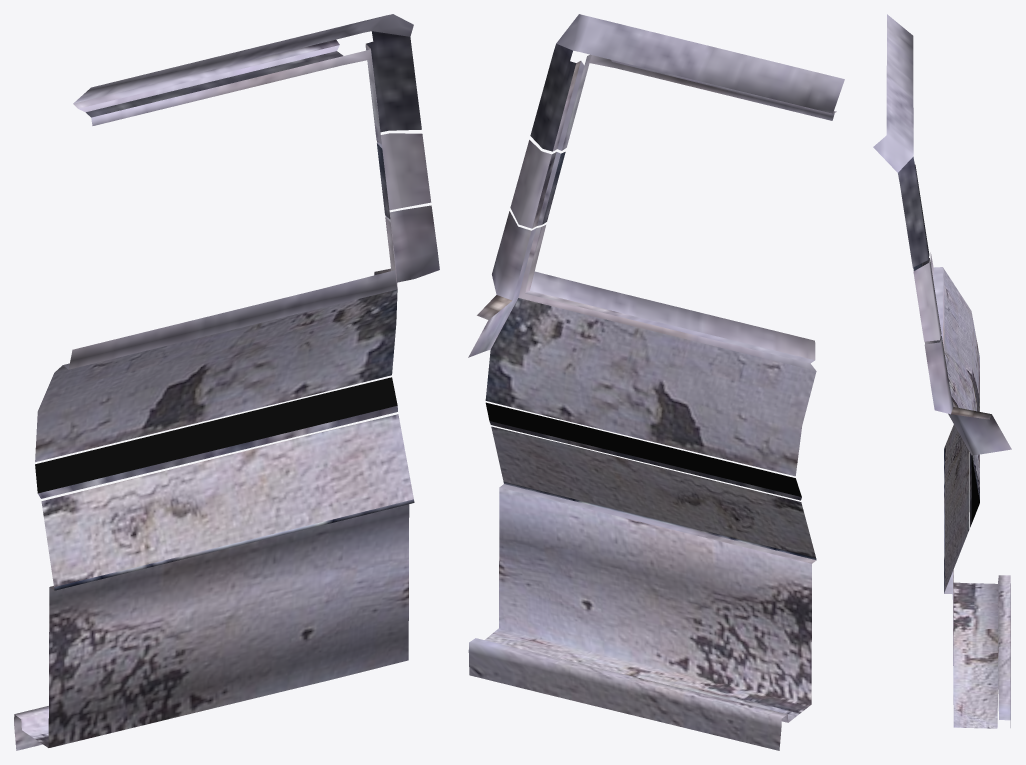
The model's file is camionnete_porte1.obj.
3 views of the same model, side by side, from view 1: azimuth 30°, elevation 25°; view 2: azimuth 150°, elevation 25°; view 3: azimuth 270°, elevation 25° (orthographic). The views are drawn at different scales.
Visible parts, largest first — view 1: Cube.004; view 2: Cube.004; view 3: Cube.004.
Boxes of the visible parts, box(x1,y1,x2,y2) form: Cube.004: box(14, 14, 439, 750); Cube.004: box(468, 14, 844, 750); Cube.004: box(873, 14, 1011, 728).
Size of the model in its own units: 7.36 by 13.31 by 2.82.
3 materials, 2 textured.
